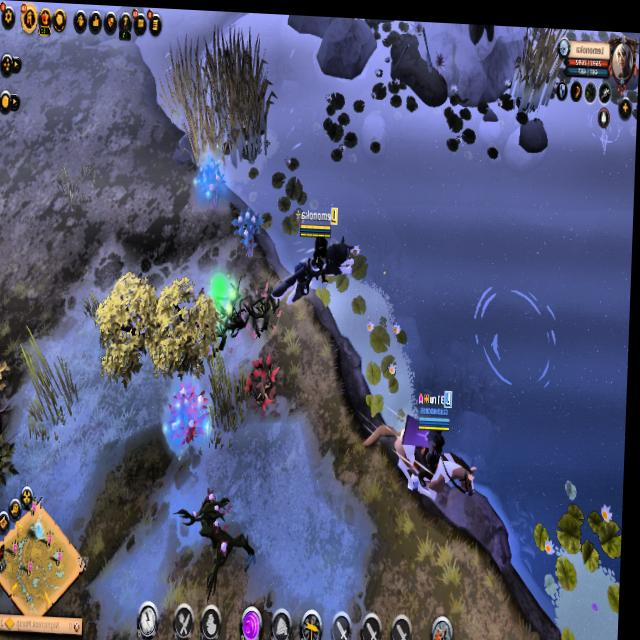fiber tier 4: (232, 198, 270, 259), (195, 152, 231, 212)
fiber tier 5: (165, 377, 217, 455)
fish: (467, 271, 568, 401)
